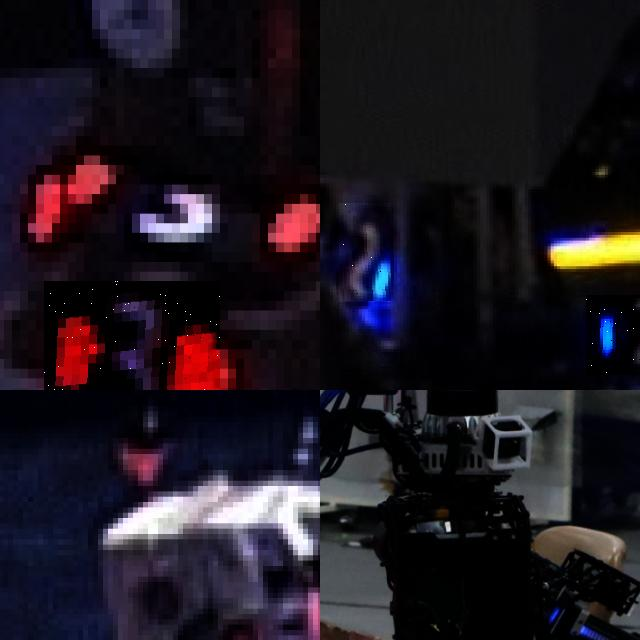B2: (339, 204, 391, 304), (585, 295, 640, 375)
R3: (44, 281, 220, 390)
